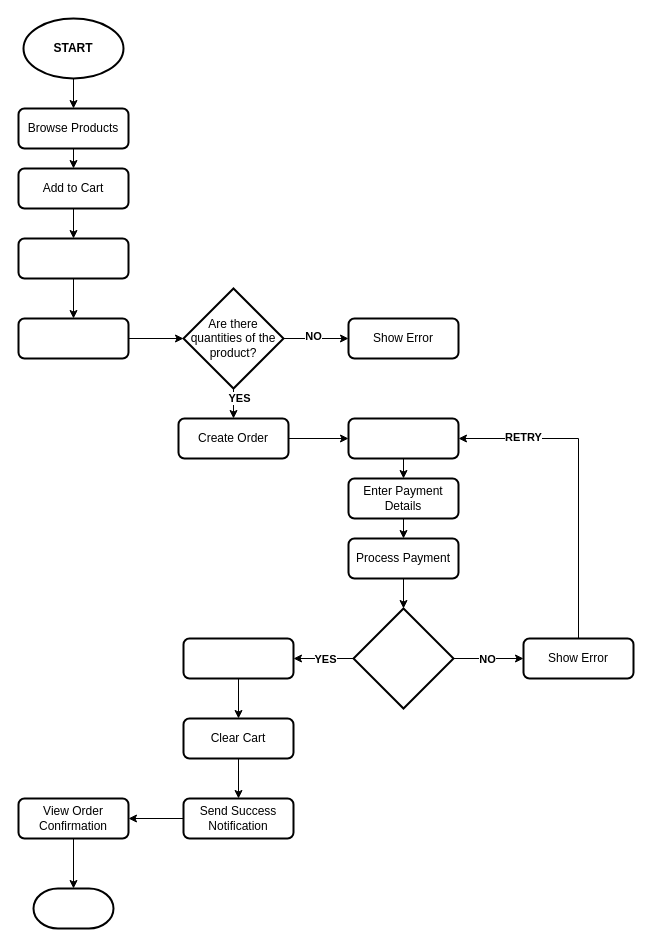
This 651x946 diagram has some shape labels left out. Here are the shapes that lost their labels. From the top down, the box of each, then its label:
(17, 237, 129, 279): View Cart
(17, 317, 129, 359): Checkout
(347, 417, 459, 459): Initiate Payment
(182, 637, 294, 679): Update Order to paid
(352, 607, 454, 709): Is Payment Successful?
(32, 887, 114, 929): END
